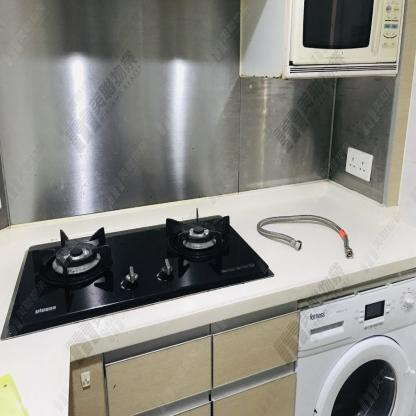Cupboard: (101, 302, 297, 416)
Microwave: (239, 0, 403, 76)
Stove: (0, 208, 276, 338)
